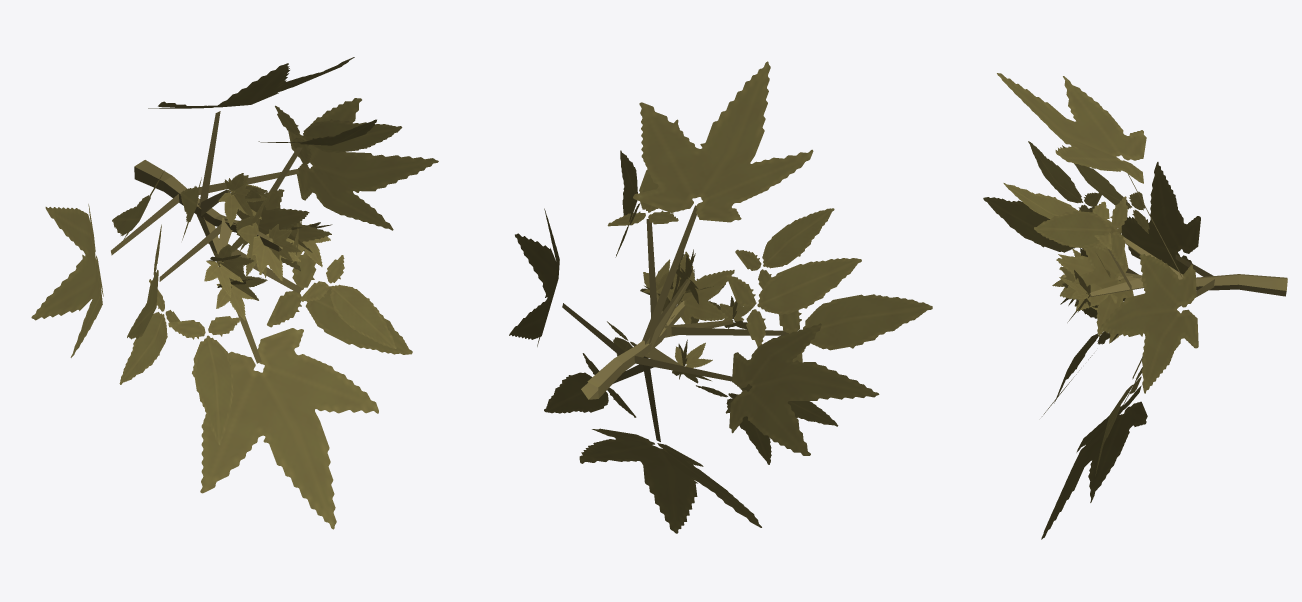
The model's file is p_auto_vegetative_c2_cards.obj.
3 renders of one model, left to right at view 1: azimuth 30°, elevation 25°; view 2: azimuth 150°, elevation 25°; view 3: azimuth 270°, elevation 25°, orthographic. The views are drawn at different scales.
Bounding box in the file's own units: 0.816 × 0.998 × 0.584.
Materials: 1 (1 with a texture image).
